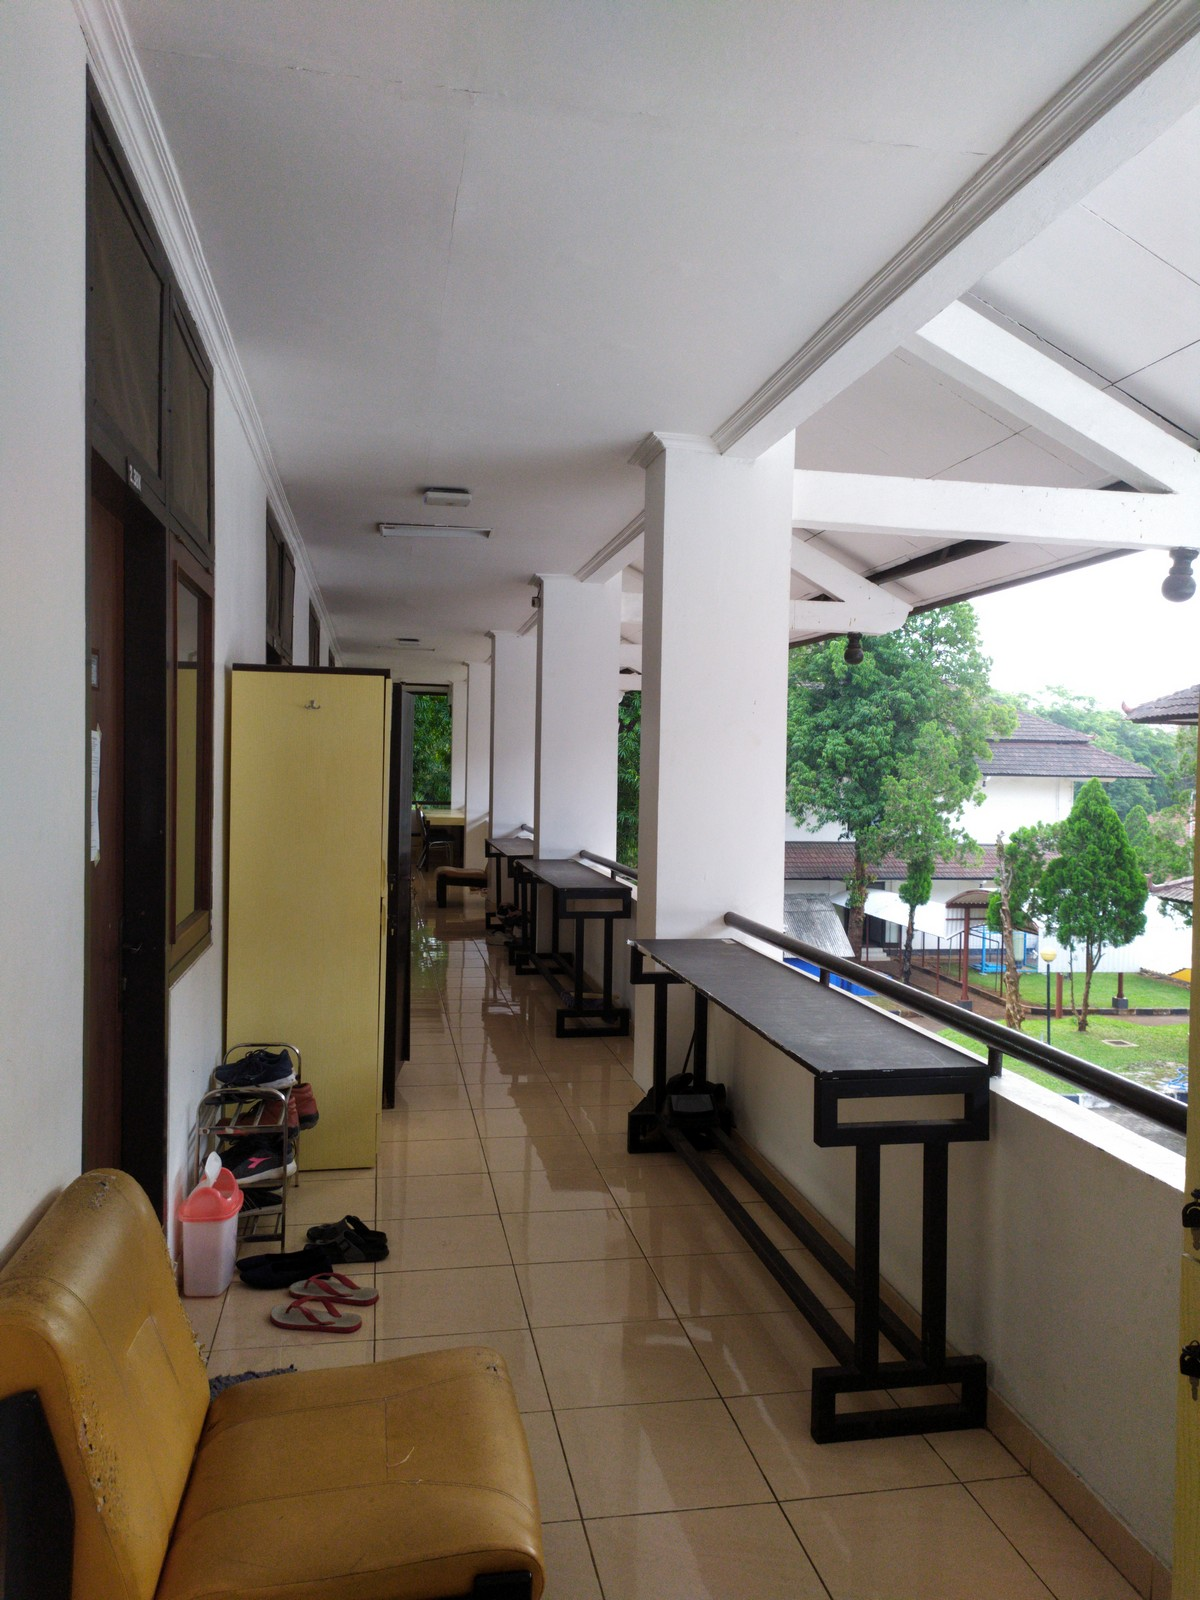concrete beam: (784, 465, 1141, 556)
concrete column: (623, 431, 800, 1104), (522, 563, 626, 973), (482, 624, 541, 869)
